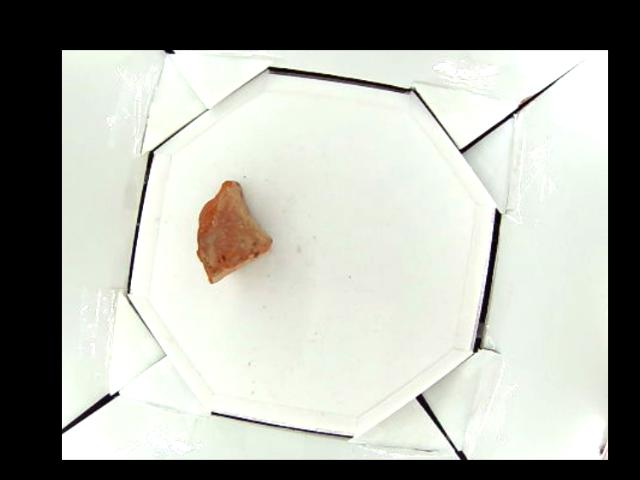Brisk: (195, 180, 273, 283)
